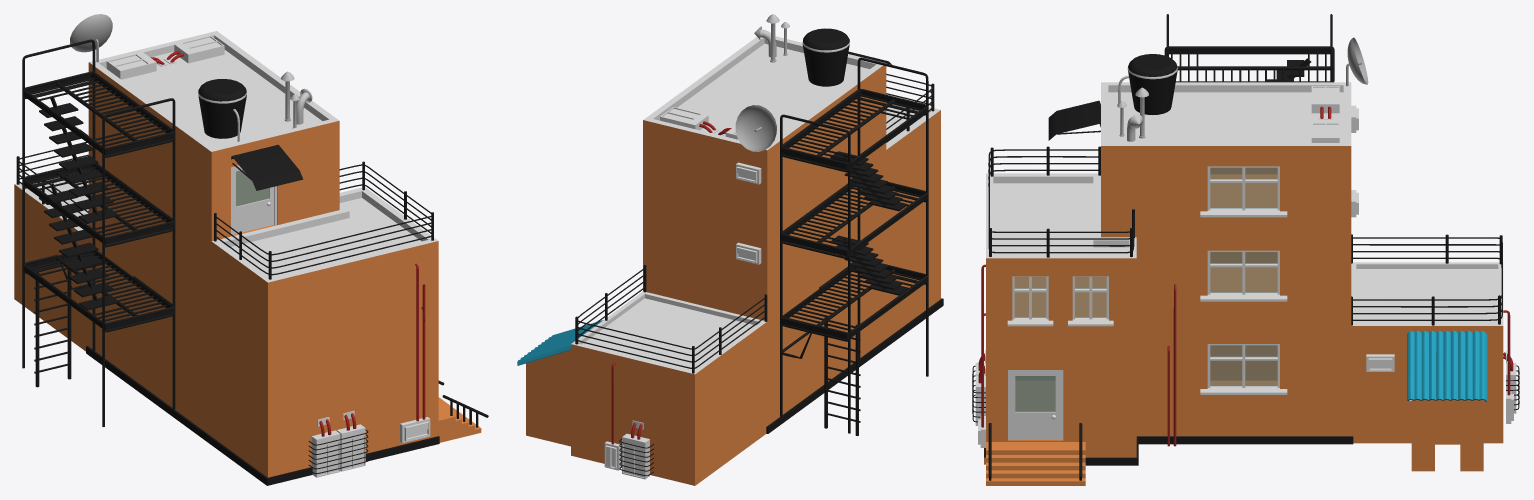
The model's file is House7.fbx.
The picture shows the model from 3 angles, left to right: view 1: azimuth 30°, elevation 25°; view 2: azimuth 150°, elevation 25°; view 3: azimuth 270°, elevation 25°; orthographic projection. The views are drawn at different scales.
Parts seen in each view (by area): view 1: House6:House6:pCube84, curve13, pCube1, House6:House6:pCylinder24, House6:pCylinder11, House6:House6:polySurface13, House6:pPlane3, House6:pCylinder18, House6:pCylinder17, House6:pSphere3, House6:pCylinder3, House6:pCylinder4 (+3 smaller); view 2: House6:House6:pCube84, pCube1, curve13, polySurface1, House6:pCylinder11, polySurface16, House6:pSphere3, polySurface6, House6:pCylinder3, House6:House6:pCylinder24, polySurface28, polySurface30 (+3 smaller); view 3: House6:House6:pCube84, pCube1, polySurface6, polySurface1, House6:House6:polySurface12, curve13, House6:House6:pCylinder24, House6:polySurface5, House6:polySurface11, House6:polySurface8, House6:pCylinder11, House6:pCube71 (+22 smaller).
Boxes of the visible parts, x1,y1,x2,y2 form: House6:House6:pCube84: [86, 31, 439, 485]; curve13: [22, 39, 175, 426]; pCube1: [14, 177, 88, 351]; House6:House6:pCylinder24: [214, 161, 433, 279]; House6:pCylinder11: [198, 79, 246, 138]; House6:House6:polySurface13: [231, 165, 277, 235]; House6:pPlane3: [231, 144, 303, 190]; House6:pCylinder18: [311, 417, 340, 477]; House6:pCylinder17: [336, 410, 365, 471]; House6:pSphere3: [70, 14, 112, 52]; House6:pCylinder3: [163, 35, 224, 64]; House6:pCylinder4: [106, 52, 167, 79]; House6:House6:pCube84: [643, 36, 943, 433]; pCube1: [571, 291, 767, 485]; curve13: [780, 57, 928, 435]; polySurface1: [526, 350, 570, 446]; House6:pCylinder11: [802, 28, 849, 86]; polySurface16: [604, 361, 653, 479]; House6:pSphere3: [735, 105, 776, 151]; polySurface6: [517, 320, 603, 365]; House6:pCylinder3: [660, 107, 718, 133]; House6:House6:pCylinder24: [886, 73, 934, 142]; polySurface28: [577, 274, 765, 355]; polySurface30: [577, 281, 765, 362]; House6:House6:pCube84: [984, 82, 1351, 464]; pCube1: [1351, 262, 1503, 443]; polySurface6: [1407, 330, 1487, 401]; polySurface1: [1411, 399, 1483, 471]; House6:House6:polySurface12: [1008, 370, 1063, 440]; curve13: [1164, 14, 1334, 82]; House6:House6:pCylinder24: [988, 146, 1134, 257]; House6:polySurface5: [1210, 345, 1277, 386]; House6:polySurface11: [1210, 167, 1277, 208]; House6:polySurface8: [1210, 252, 1277, 292]; House6:pCylinder11: [1127, 54, 1177, 114]; House6:pCube71: [1138, 436, 1353, 444].
Size of the model in its own units: 13.99 by 15.07 by 21.75.
